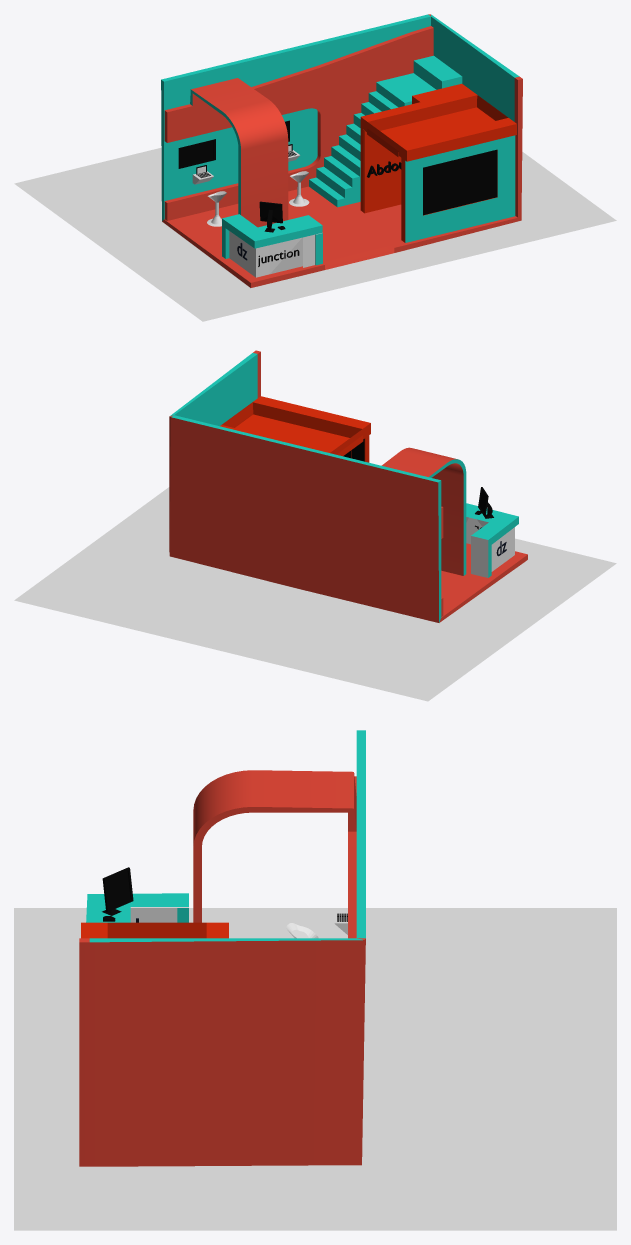
File: noFFF.fbx
3 renders of one model, top to bottom at view 1: azimuth 30°, elevation 25°; view 2: azimuth 150°, elevation 25°; view 3: azimuth 270°, elevation 25°, orthographic. The views are drawn at different scales.
Parts seen in each view (by area): view 1: Plane, wall, WALL8SUPPORT, Cube.002, drojj, OFICE, plazama, Plane.005; view 2: wall, Plane, Cube.002, WALL8SUPPORT, OFICE; view 3: Plane, wall, WALL8SUPPORT, OFICE, Cube.002, Plane.005.
Boxes of the visible parts, <box> form: Plane: <box>14,147,616,321</box>; wall: <box>161,14,522,287</box>; WALL8SUPPORT: <box>164,26,433,227</box>; Cube.002: <box>360,83,516,242</box>; drojj: <box>309,55,462,207</box>; OFICE: <box>222,214,322,277</box>; plazama: <box>178,139,215,168</box>; Plane.005: <box>259,201,282,232</box>; wall: <box>169,350,527,622</box>; Plane: <box>14,487,616,701</box>; Cube.002: <box>220,396,370,462</box>; WALL8SUPPORT: <box>382,447,466,616</box>; OFICE: <box>466,503,518,577</box>; Plane: <box>14,908,616,1230</box>; wall: <box>79,730,365,1166</box>; WALL8SUPPORT: <box>193,770,356,938</box>; OFICE: <box>86,893,188,922</box>; Cube.002: <box>81,922,228,938</box>; Plane.005: <box>102,867,133,915</box>.
Size of the model in its own units: 2218 by 741 by 1751.
